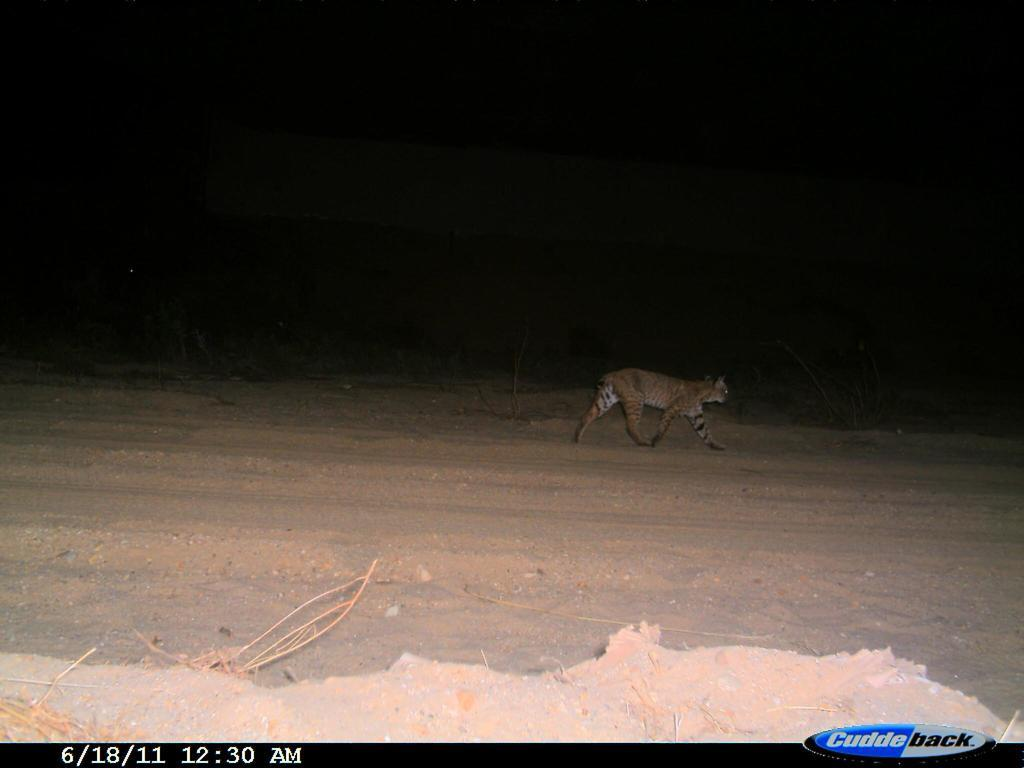bobcat: (568, 364, 735, 457)
